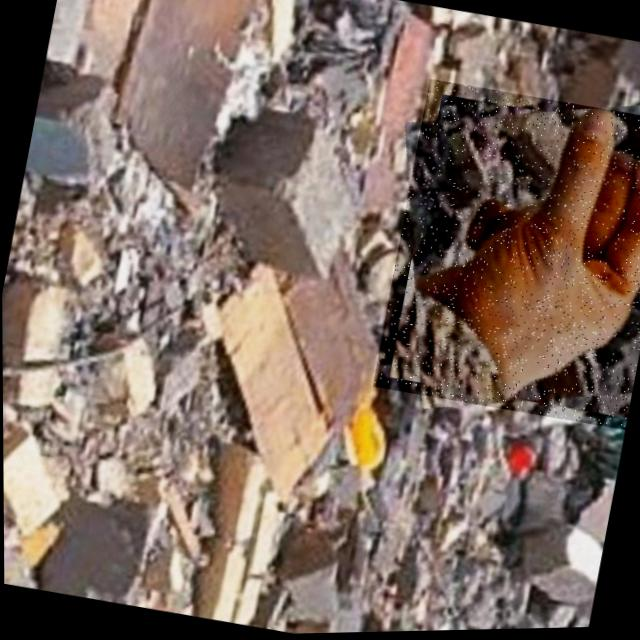Person in Rubble: (369, 77, 640, 437)
